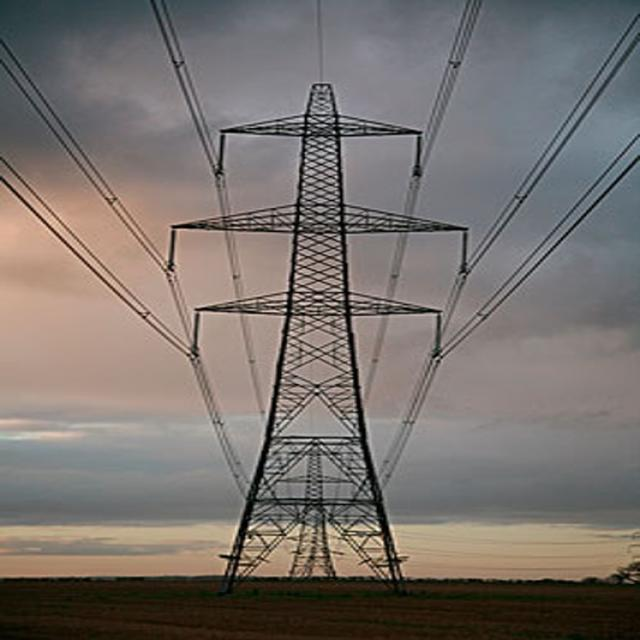non-critical vegetation: (176, 89, 450, 566)
